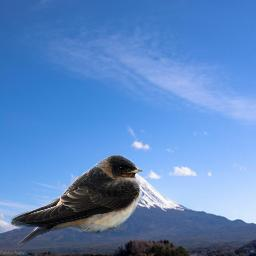Swallow: (10, 154, 144, 246)
